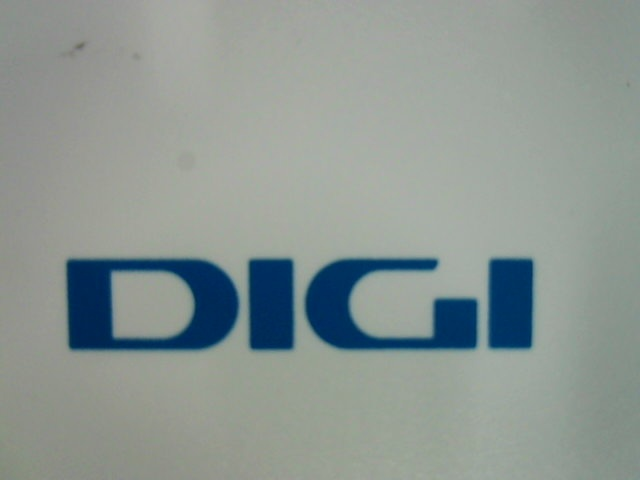BL_DIGI: (47, 228, 549, 368)
